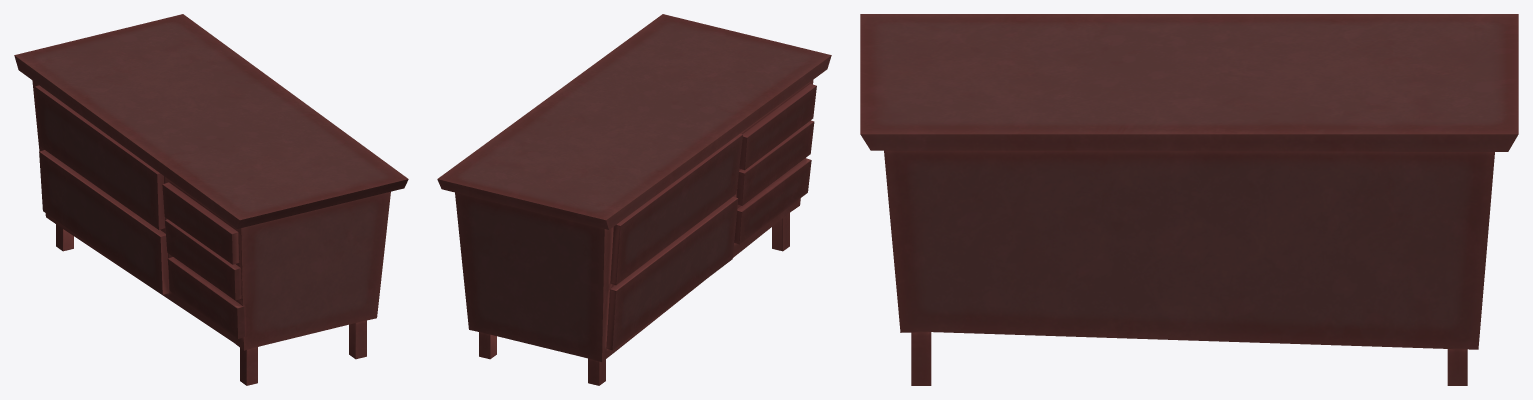
The model's file is SM_Desk02.fbx.
3 views of the same model, side by side, from view 1: azimuth 30°, elevation 25°; view 2: azimuth 150°, elevation 25°; view 3: azimuth 270°, elevation 25° (orthographic). The views are drawn at different scales.
Parts seen in each view (by area): view 1: SM_Desk02_LOD0; view 2: SM_Desk02_LOD0; view 3: SM_Desk02_LOD0.
Boxes of the visible parts, bbox=[...] form: SM_Desk02_LOD0: bbox=[14, 14, 408, 385]; SM_Desk02_LOD0: bbox=[437, 14, 831, 385]; SM_Desk02_LOD0: bbox=[860, 14, 1518, 385].
Bounding box in the file's own units: 102 × 235 × 106.
Materials: 1 (1 with a texture image).
